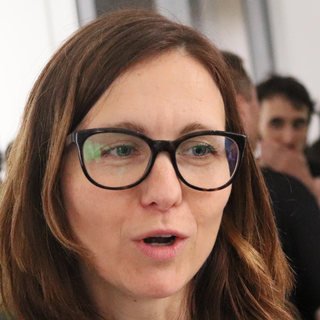eye: (97, 139, 145, 164), (177, 139, 215, 162)
